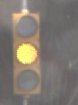Yellow: (5, 8, 50, 96)
